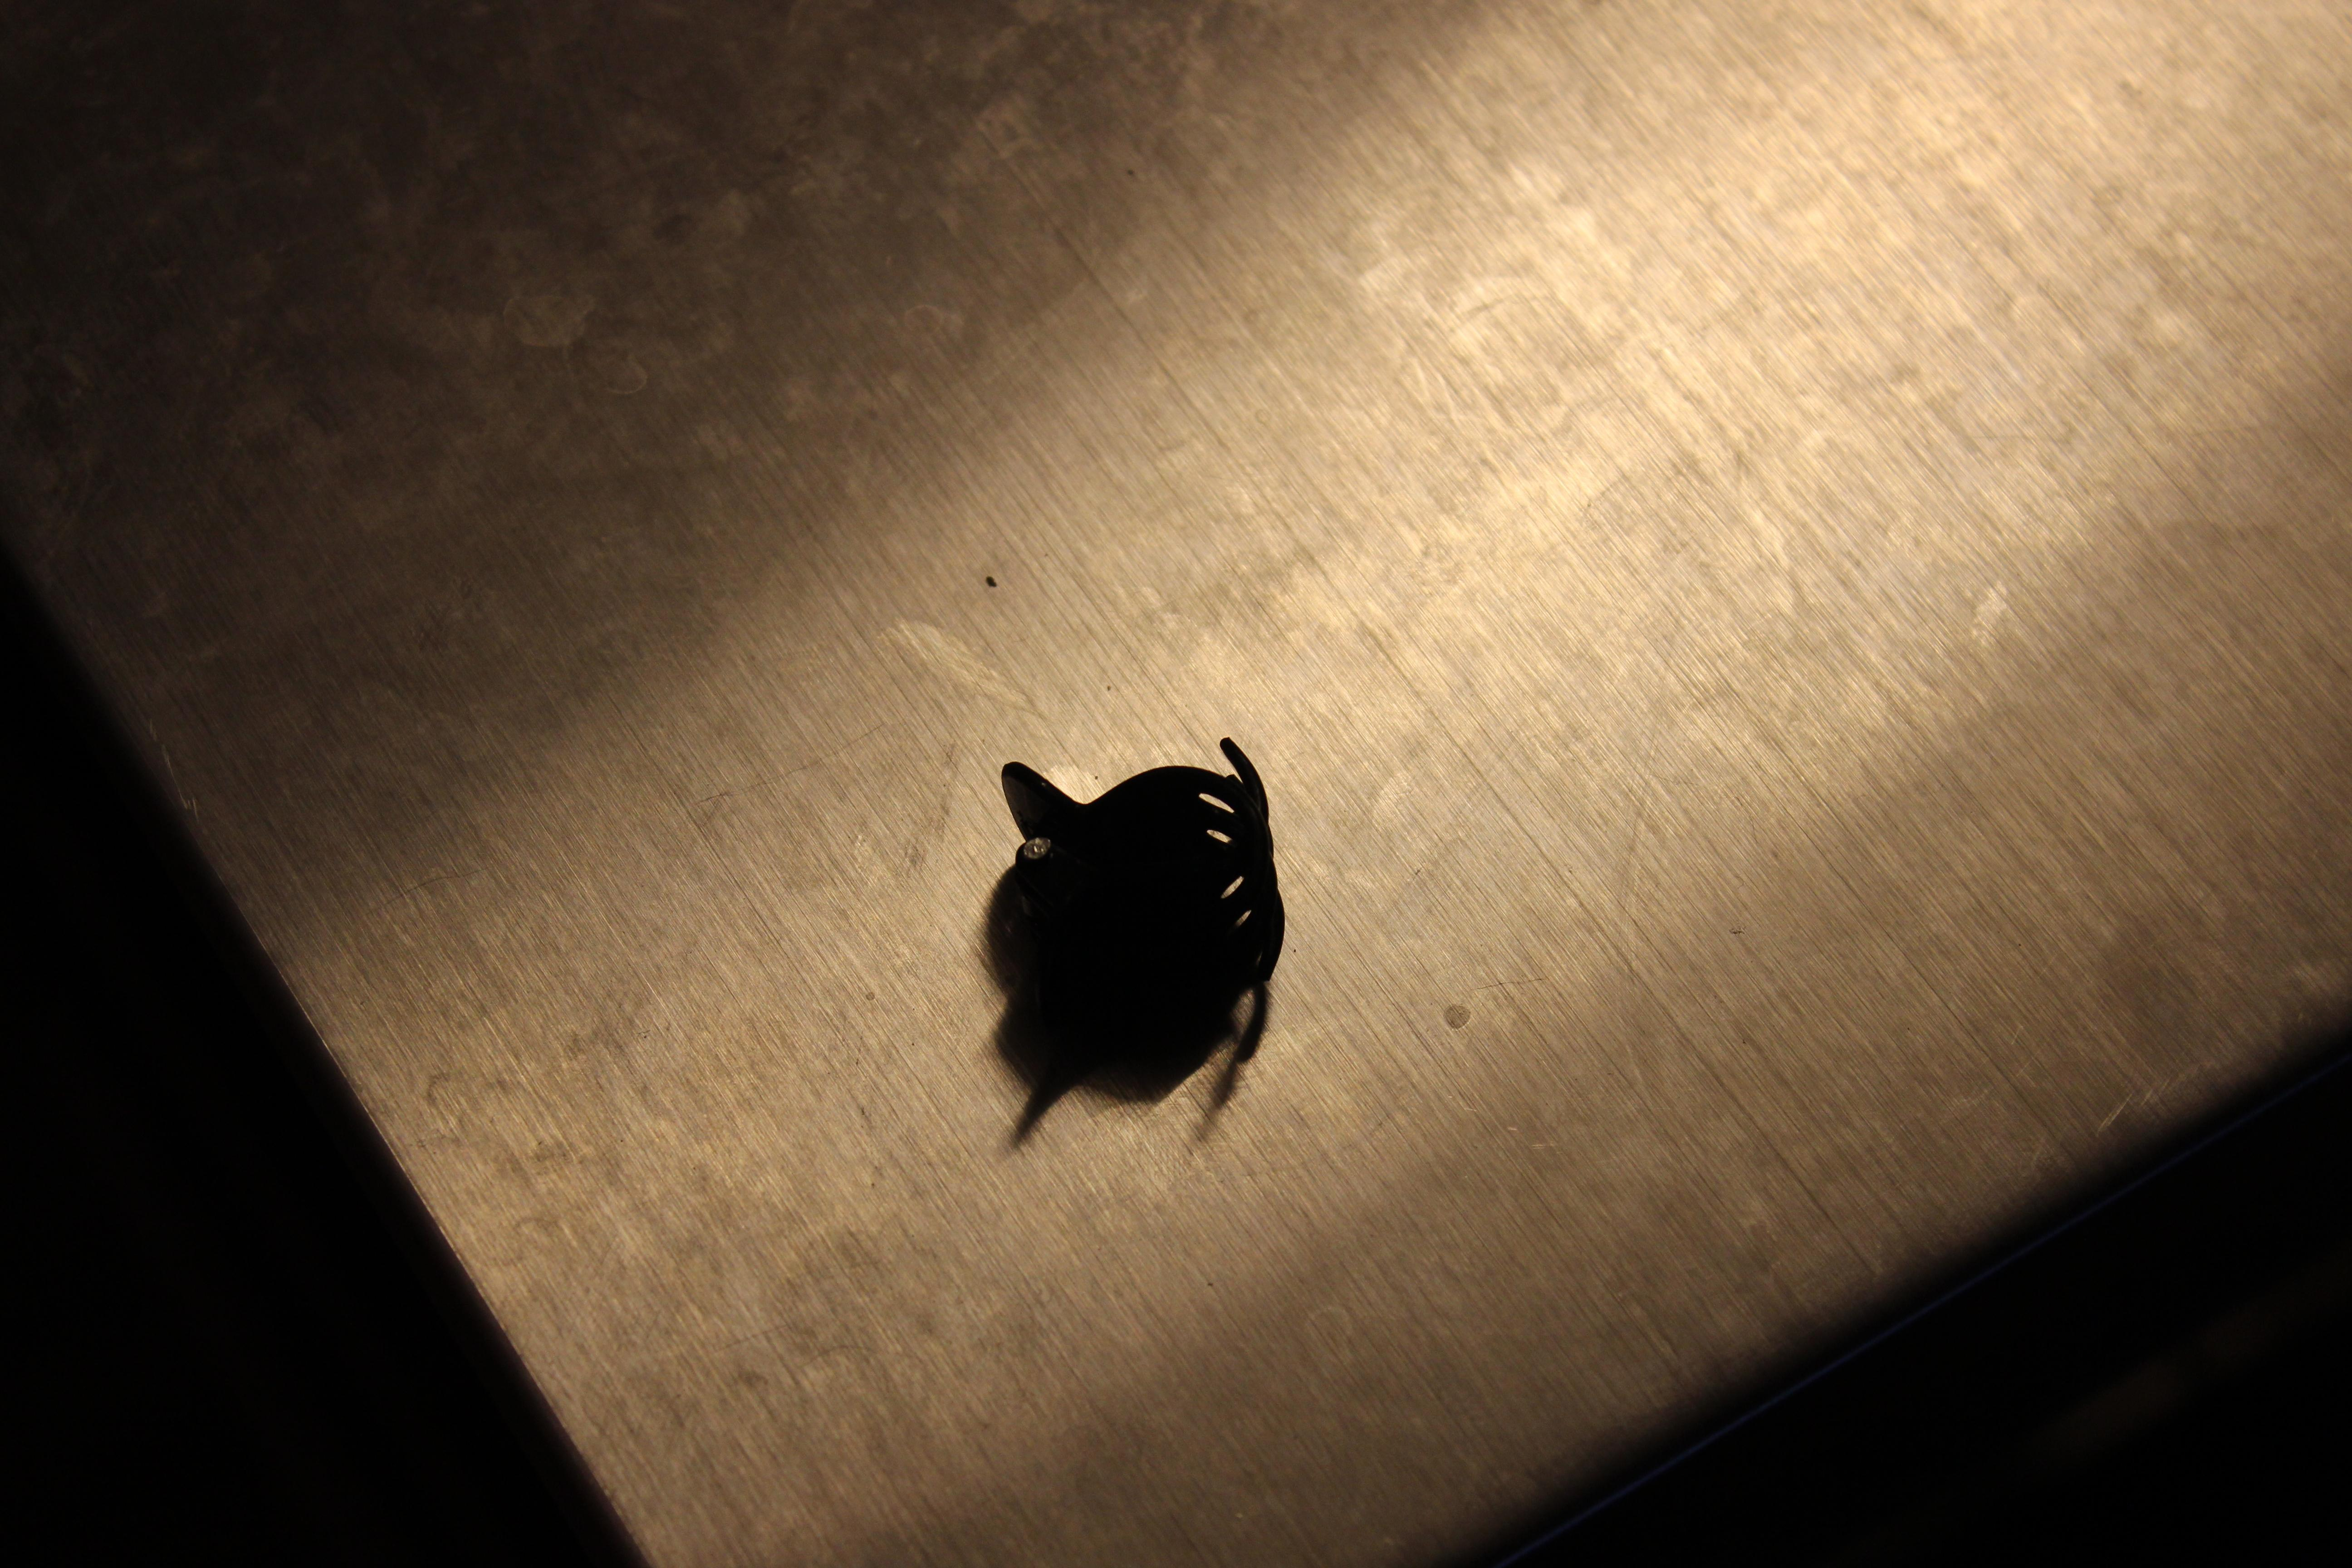hairClip: (935, 721, 1328, 1148)
